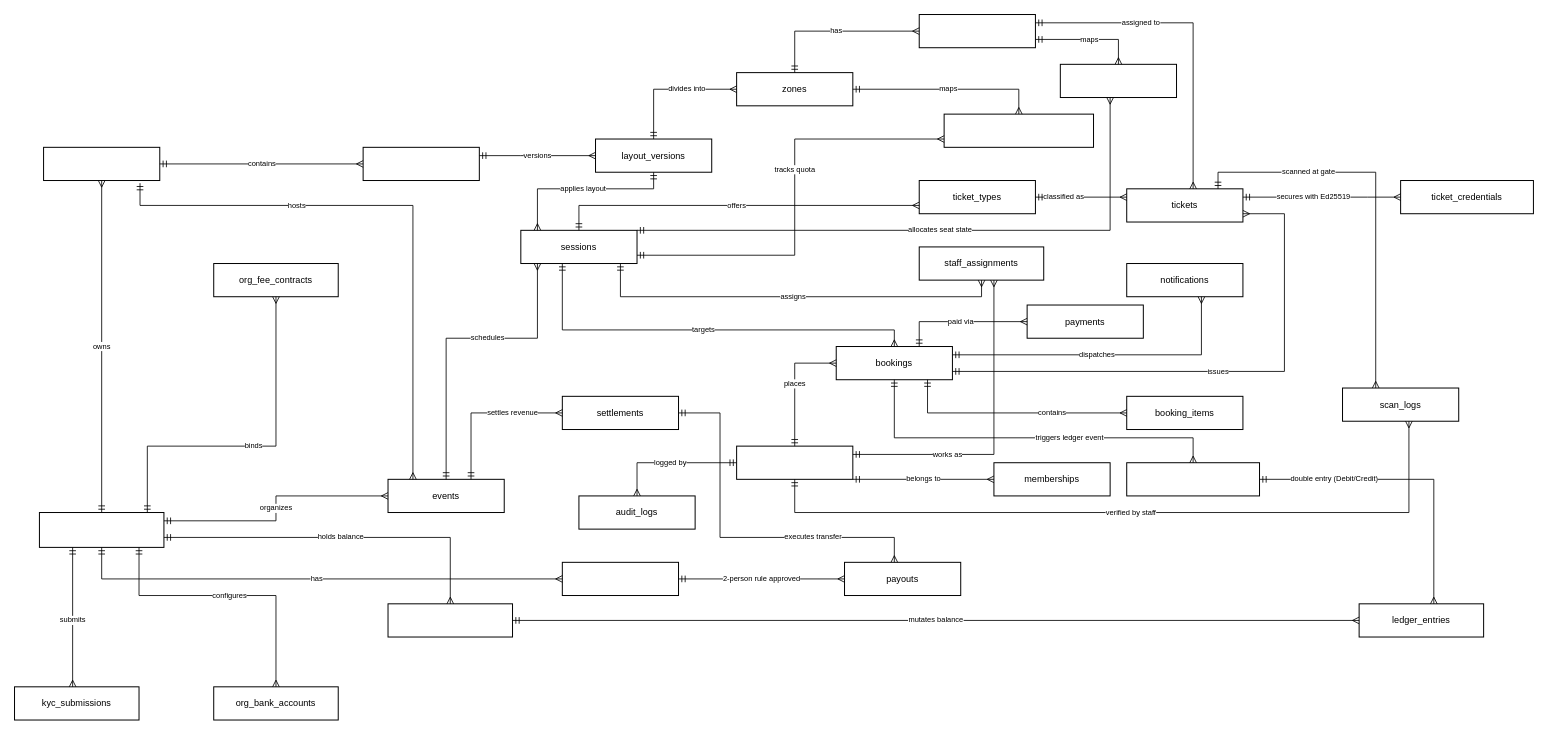
The diagram is 1549 pixels wide and 735 high, and some of its shapes have lost their labels. Here are the shapes that lost their labels. From the top down, the centre of each, then its label:
At point 977,31: "seats".
At point 1118,80: "session_seats".
At point 1018,130: "session_zone_inventory".
At point 101,163: "venues".
At point 420,163: "layouts".
At point 794,462: "profiles".
At point 1193,479: "ledger_transactions".
At point 101,529: "organizations".
At point 620,578: "approvals".
At point 450,620: "ledger_accounts".
